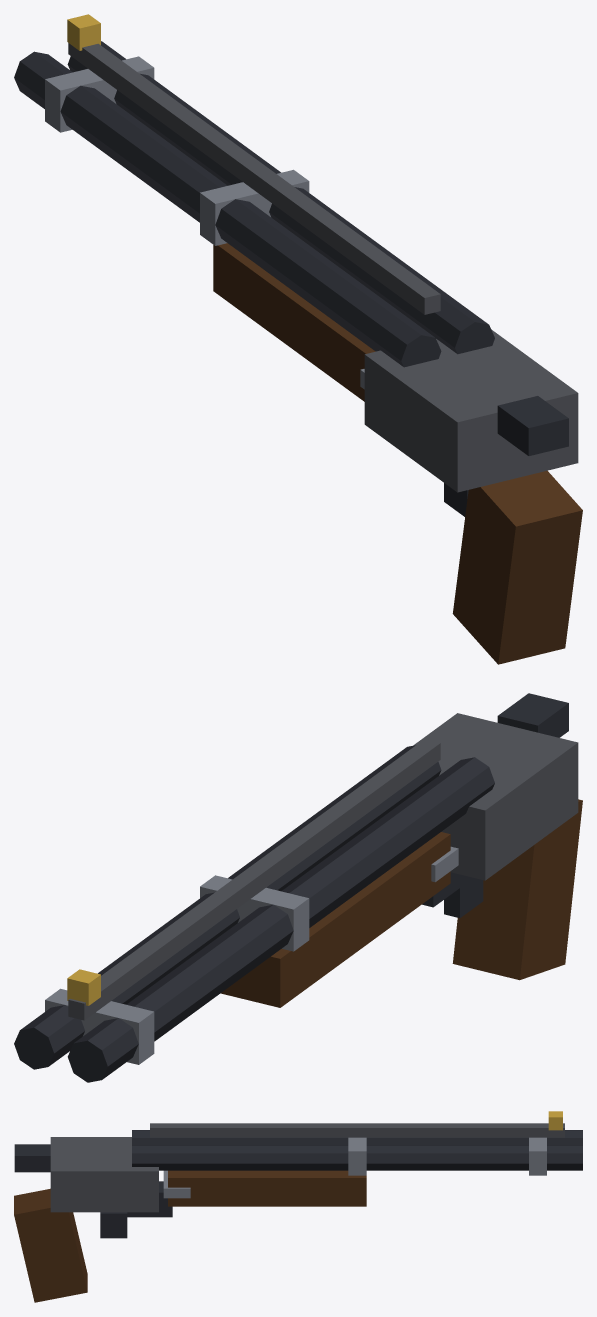
File: shotgun.glb
3 renders of one model, top to bottom at view 1: azimuth 30°, elevation 25°; view 2: azimuth 150°, elevation 25°; view 3: azimuth 270°, elevation 25°, orthographic. The views are drawn at different scales.
Visible parts, largest first — view 1: Shotgun, Pump; view 2: Shotgun, Pump; view 3: Shotgun, Pump.
Part boxes in pixels (left/top/right/bottom): Shotgun: left=14, top=14, right=582, bottom=664; Pump: left=213, top=243, right=375, bottom=401; Shotgun: left=14, top=693, right=582, bottom=1082; Pump: left=220, top=832, right=458, bottom=1007; Shotgun: left=14, top=1111, right=582, bottom=1302; Pump: left=163, top=1170, right=366, bottom=1206.
Size of the model in its own units: 0.09 by 0.219 by 0.6308.
